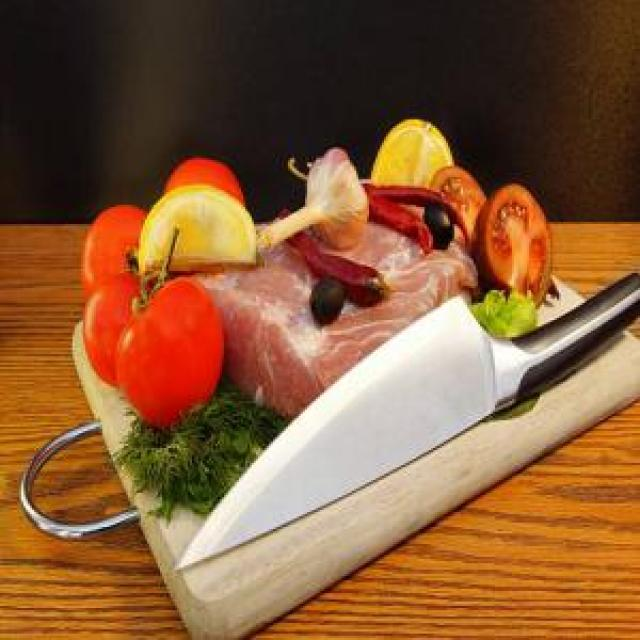knife: (175, 264, 638, 634)
